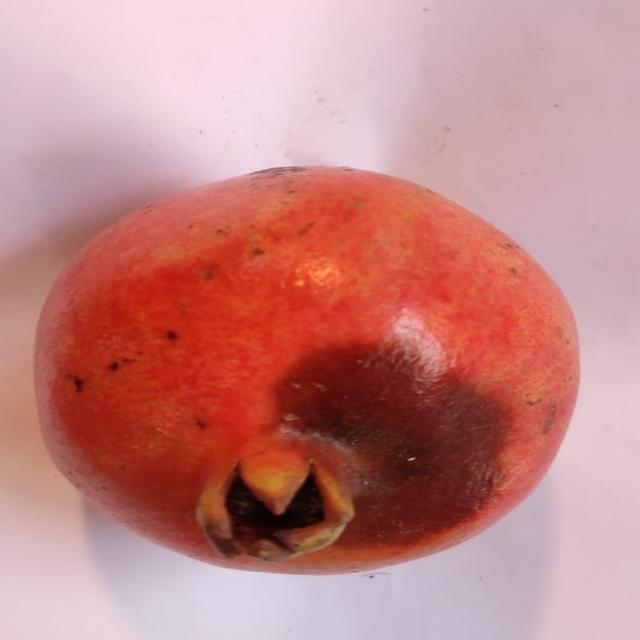Rotten: (27, 159, 590, 580)
